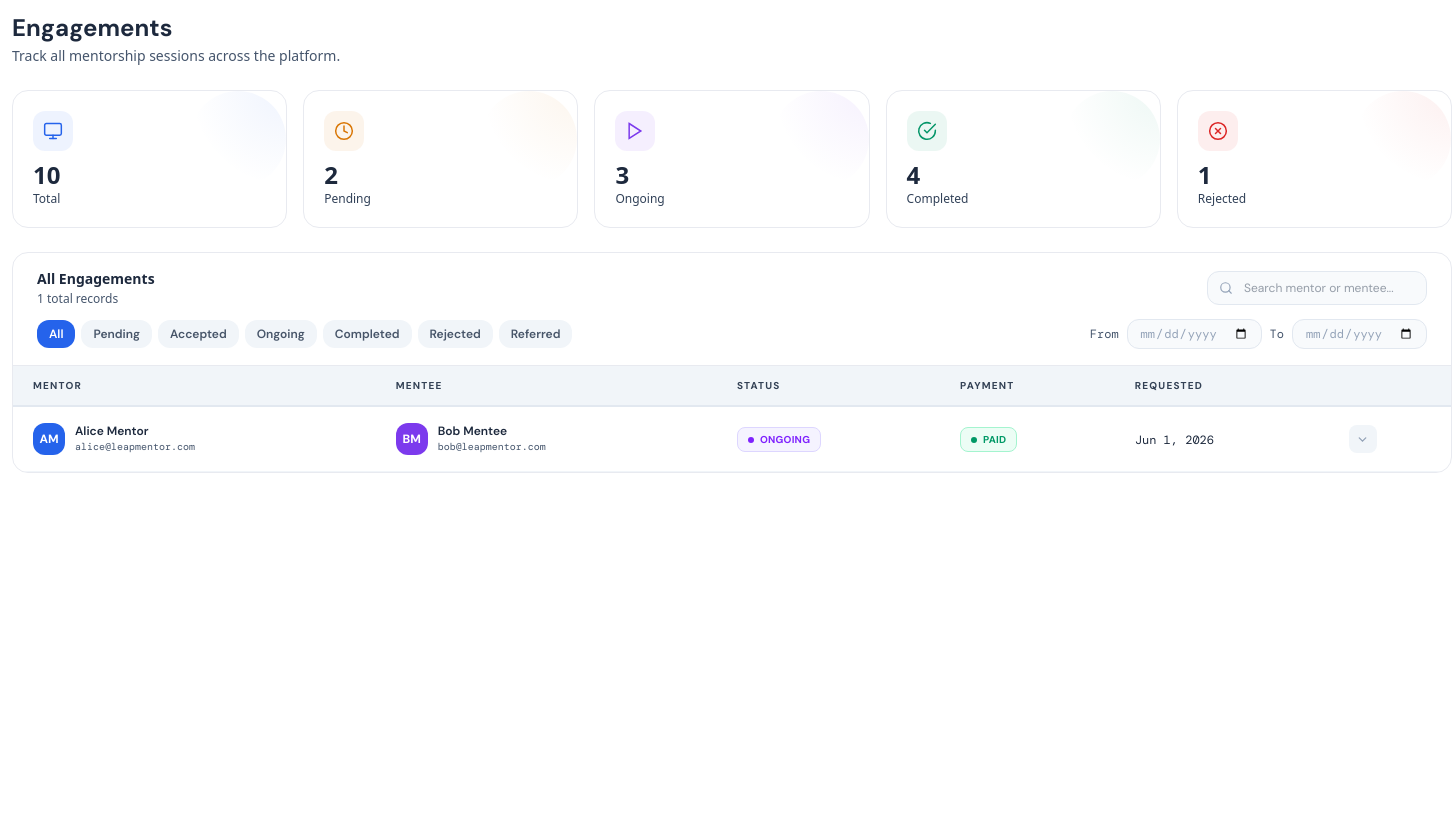
Scenario: AdminEngagements › shows the Completed At date and falls back to '—' when both selectedSlots and sessionCount are absent
The width and height of the screenshot is (1452, 822).
Click the text "Alice Mentor": point(112, 430) 75,422 -> 148,438
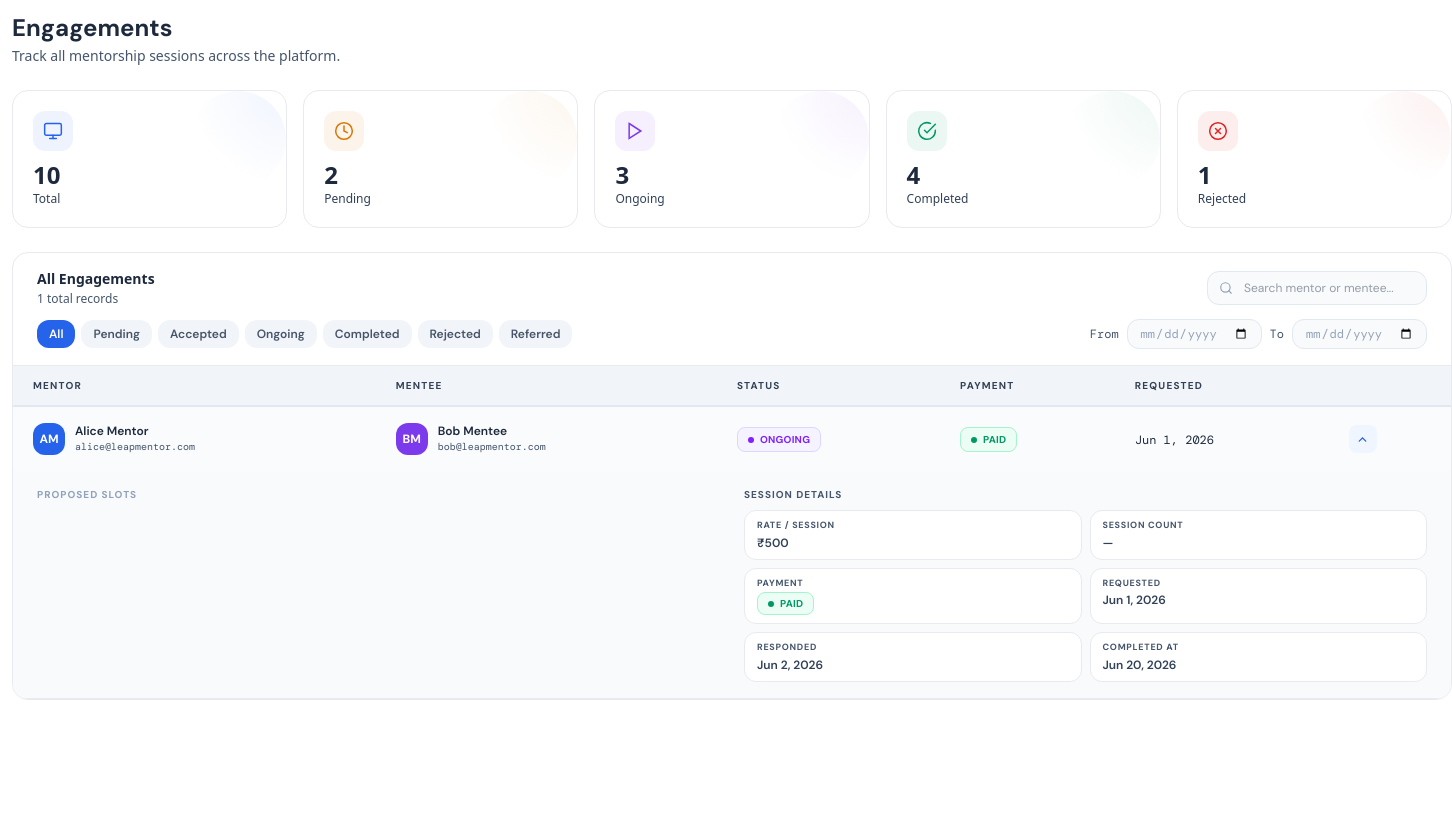
expect the text "Jun 20, 2026" is shown: met, box 1102,657 -> 1176,673
